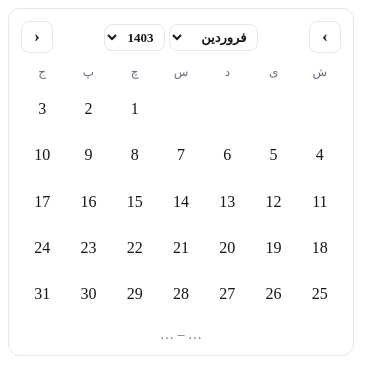
it: PersianDateRangePicker › the default header nav buttons move to the previous/next month
Click the button "‹". click: (37, 37)
box: [21, 21, 53, 53]
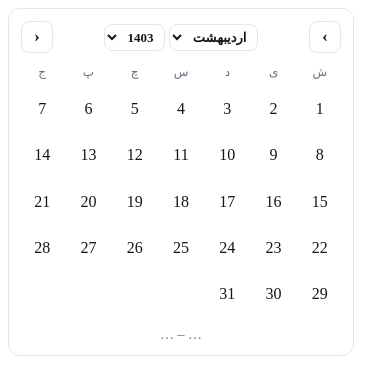
Expected: the dropdown named "ماه" shows "اردیبهشت", [169, 24, 258, 50]
Click the button "›". click: (325, 37)
box: [309, 21, 341, 53]
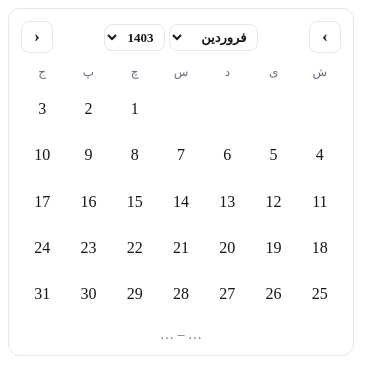
Click the button "›". click: (325, 37)
box: [309, 21, 341, 53]
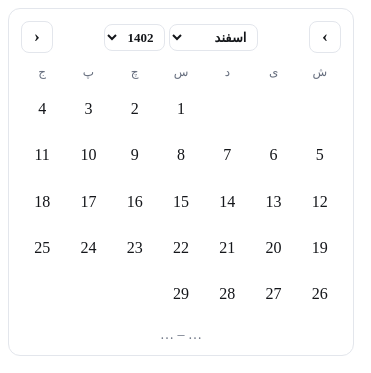
Expected: the dropdown named "ماه" shows "اسفند", [169, 24, 258, 50]
Expected: the dropdown named "سال" shows "1402", [104, 24, 165, 50]
